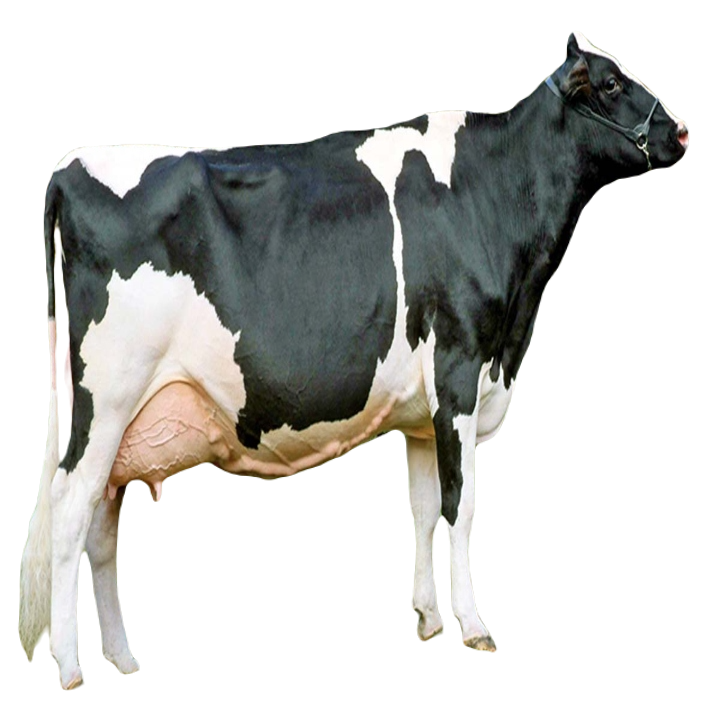Cow: (14, 33, 688, 687)
